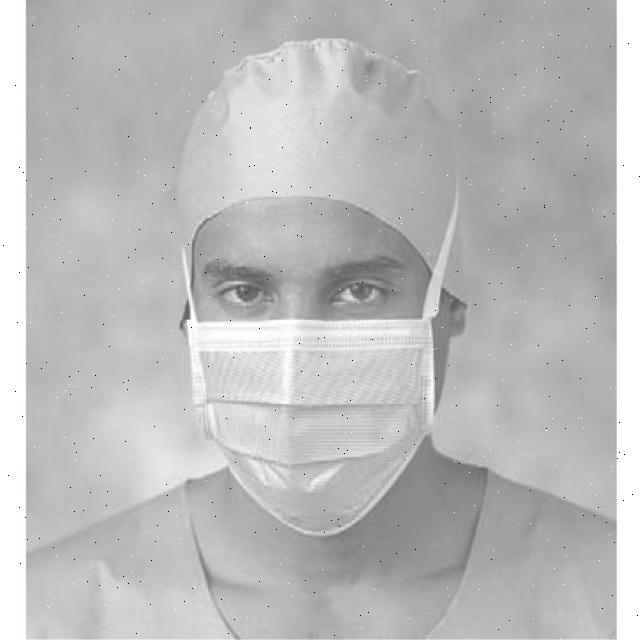fake: (182, 307, 451, 548)
real: (191, 190, 436, 545)
